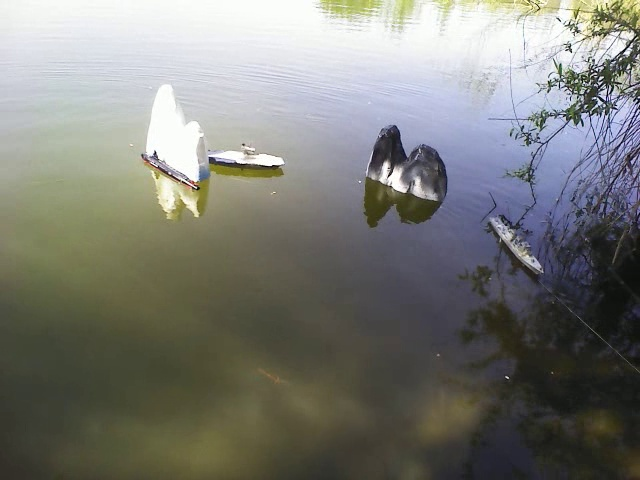aircraft_carrier: (208, 141, 286, 176)
iceberg: (142, 85, 213, 178)
rock: (364, 120, 452, 205)
submarine: (142, 152, 202, 195)
warship: (489, 209, 552, 280)
